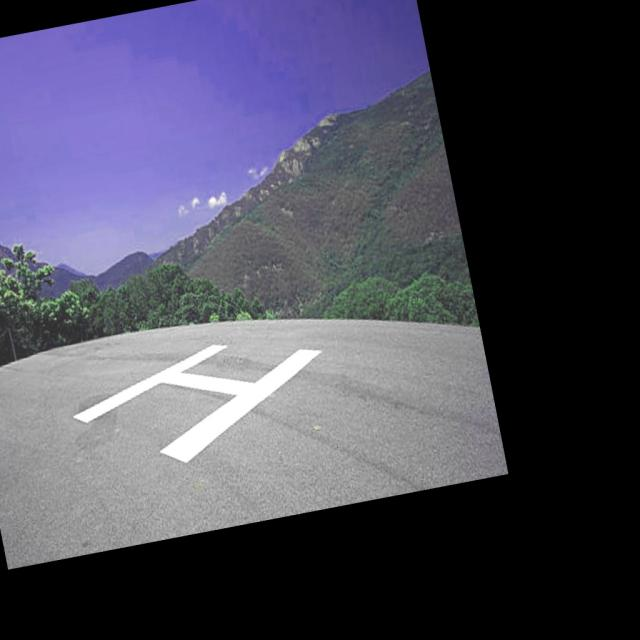helipad: (62, 325, 337, 483)
